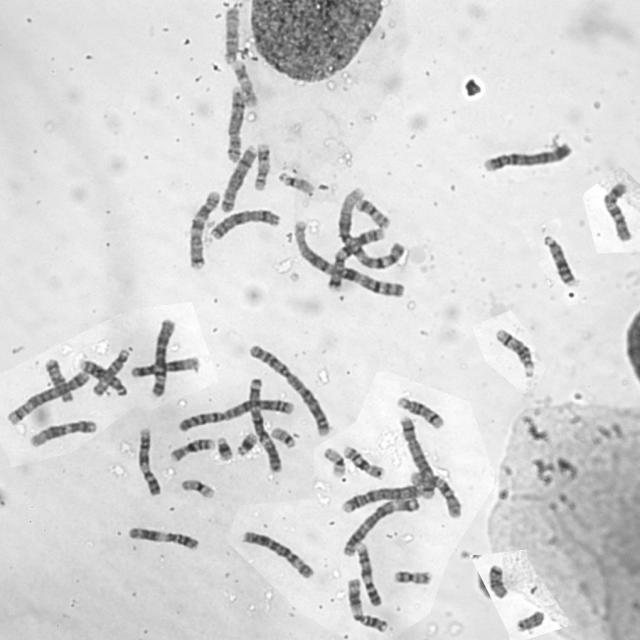A1: (290, 218, 406, 300), (334, 183, 408, 271)
A2: (245, 340, 332, 438), (175, 396, 296, 434)
A3: (338, 493, 422, 559), (245, 374, 284, 474)
B4: (479, 138, 574, 174), (339, 482, 422, 515)
B5: (4, 368, 91, 426), (396, 414, 437, 499)
C10: (407, 469, 464, 519), (600, 179, 633, 243)
C11: (344, 575, 390, 634), (124, 524, 202, 552)
C12: (26, 417, 98, 449), (128, 354, 201, 379)
C6: (239, 527, 317, 581), (148, 316, 178, 400)
C7: (324, 225, 386, 293), (185, 188, 222, 271)
C8: (217, 142, 259, 214), (222, 84, 247, 165)
C9: (136, 424, 162, 497), (354, 542, 382, 606)
D13: (539, 230, 578, 288), (76, 356, 128, 396)
D14: (493, 325, 537, 379), (394, 393, 446, 431)
D15: (90, 346, 132, 398), (221, 5, 240, 66)
E16: (339, 442, 386, 481), (168, 435, 216, 464)
E17: (230, 57, 259, 108), (251, 140, 272, 192)
E18: (42, 354, 74, 404), (486, 560, 509, 600)
F19: (178, 476, 217, 500), (321, 444, 347, 478)
F20: (353, 196, 392, 230), (391, 566, 433, 586)
G21: (234, 429, 260, 459), (214, 432, 234, 463)
G22: (275, 169, 316, 197), (269, 423, 298, 449)
X: (206, 205, 282, 242)
Y: (514, 608, 545, 632)
